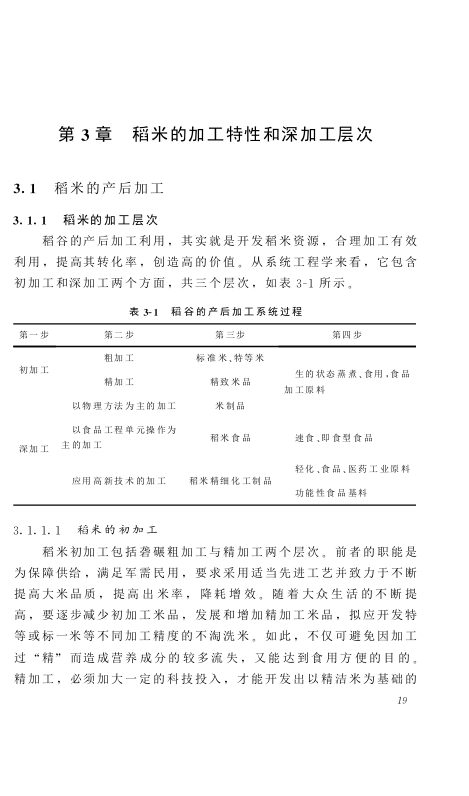table: (13, 323, 417, 506)
